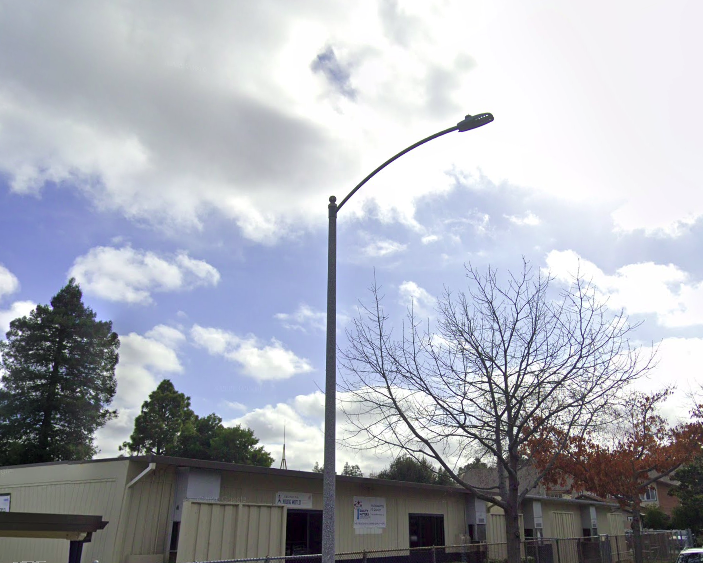pole: (321, 106, 499, 257)
